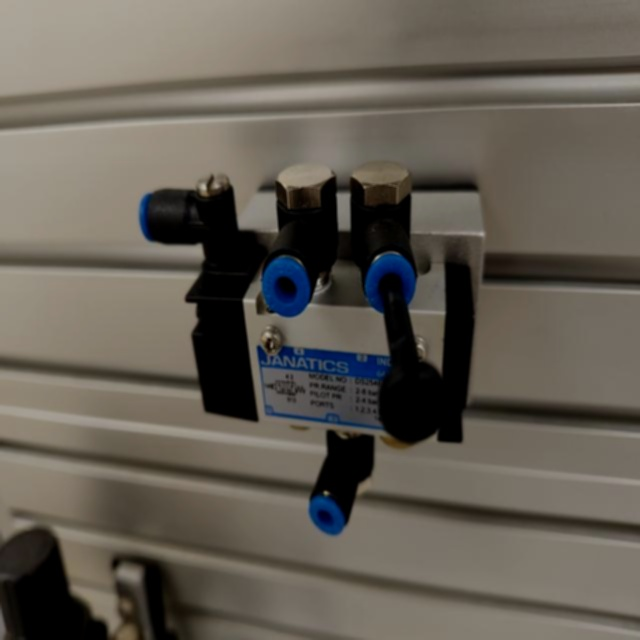5by2 DCV: (133, 152, 505, 543)
